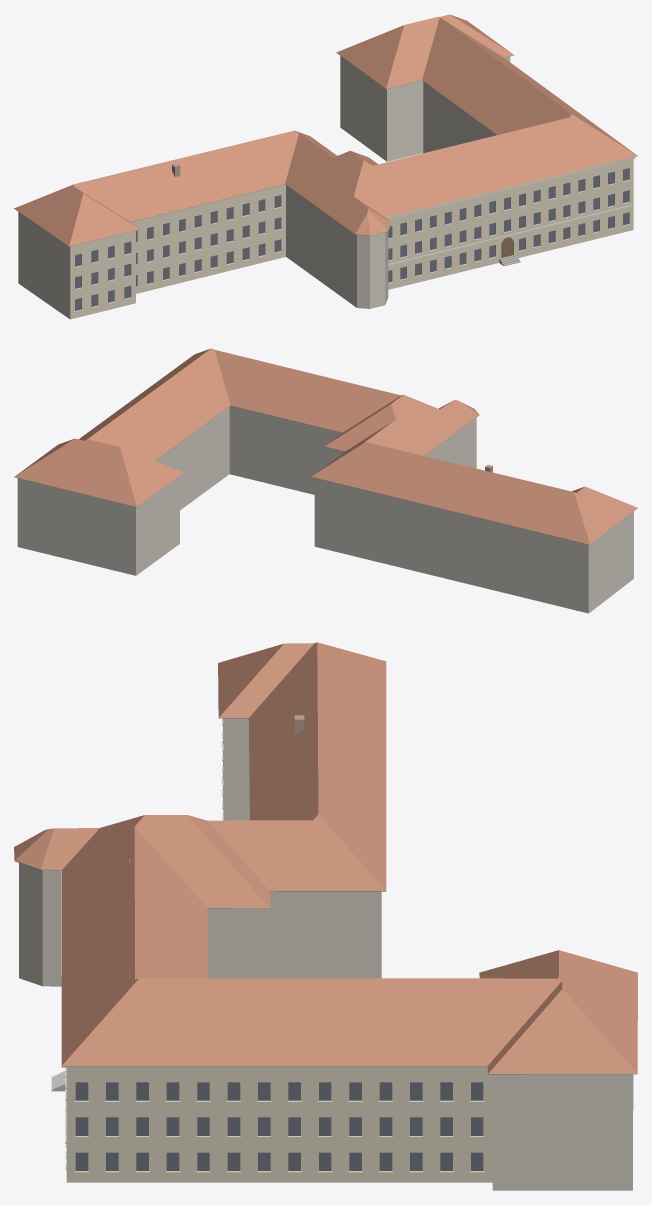
3 views of the same model, one above another, from view 1: azimuth 30°, elevation 25°; view 2: azimuth 150°, elevation 25°; view 3: azimuth 270°, elevation 25° (orthographic). The views are drawn at different scales.
Visible parts, largest first — view 1: CP_1360_Masonry, CP_1360_Roof, CP_1360_Cornice_main_eave_0, CP_1360_Cornice_main_string_0; view 2: CP_1360_Masonry, CP_1360_Roof; view 3: CP_1360_Roof, CP_1360_Masonry.
Part boxes in pixels (bbox=[...]): CP_1360_Masonry: bbox=[18, 56, 633, 319]; CP_1360_Roof: bbox=[14, 14, 637, 246]; CP_1360_Cornice_main_eave_0: bbox=[385, 157, 635, 218]; CP_1360_Cornice_main_string_0: bbox=[388, 204, 634, 265]; CP_1360_Masonry: bbox=[17, 406, 633, 613]; CP_1360_Roof: bbox=[14, 348, 637, 544]; CP_1360_Roof: bbox=[14, 642, 637, 1073]; CP_1360_Masonry: bbox=[19, 718, 633, 1190].
Size of the model in its own units: 101 by 20.18 by 64.35.
